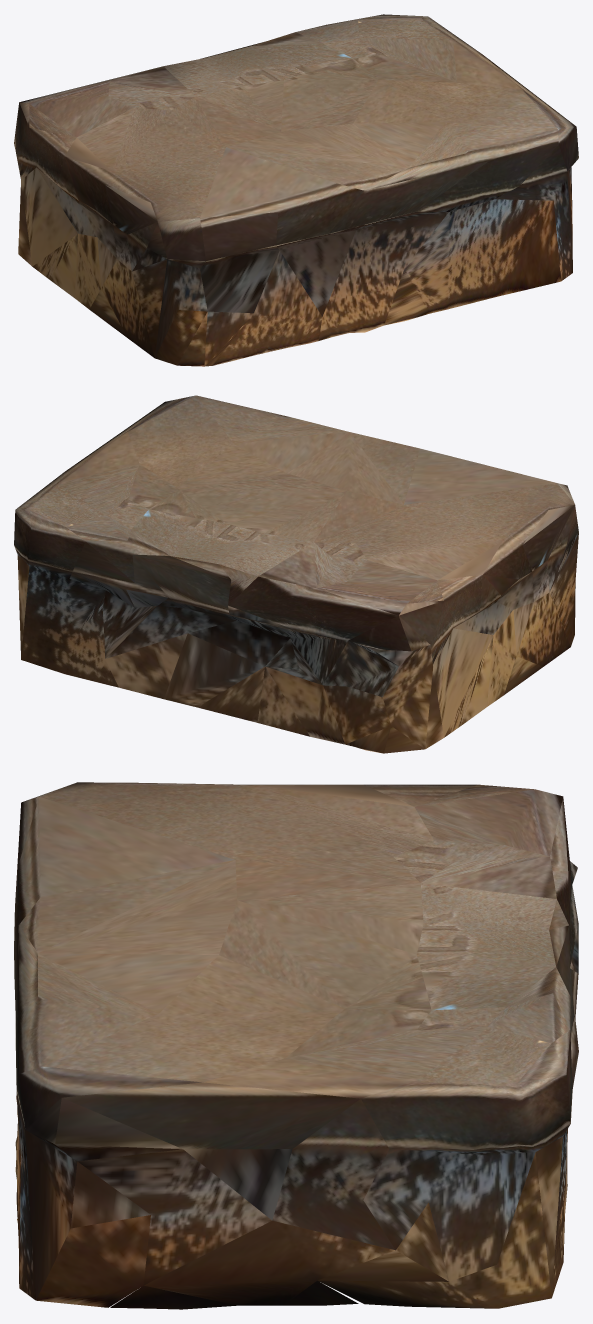
The model's file is set poker.fbx.
3 renders of one model, top to bottom at view 1: azimuth 30°, elevation 25°; view 2: azimuth 150°, elevation 25°; view 3: azimuth 270°, elevation 25°, orthographic. The views are drawn at different scales.
Visible parts, largest first — view 1: set poker; view 2: set poker; view 3: set poker.
Part boxes in pixels (left/top/right/bottom): set poker: left=14, top=14, right=578, bottom=366; set poker: left=14, top=395, right=578, bottom=753; set poker: left=14, top=782, right=578, bottom=1309.
Size of the model in its own units: 14.34 by 4.89 by 10.74.
Materials: 1 (1 with a texture image).
